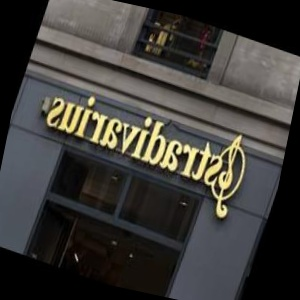stradivarius: (250, 70, 289, 145)
